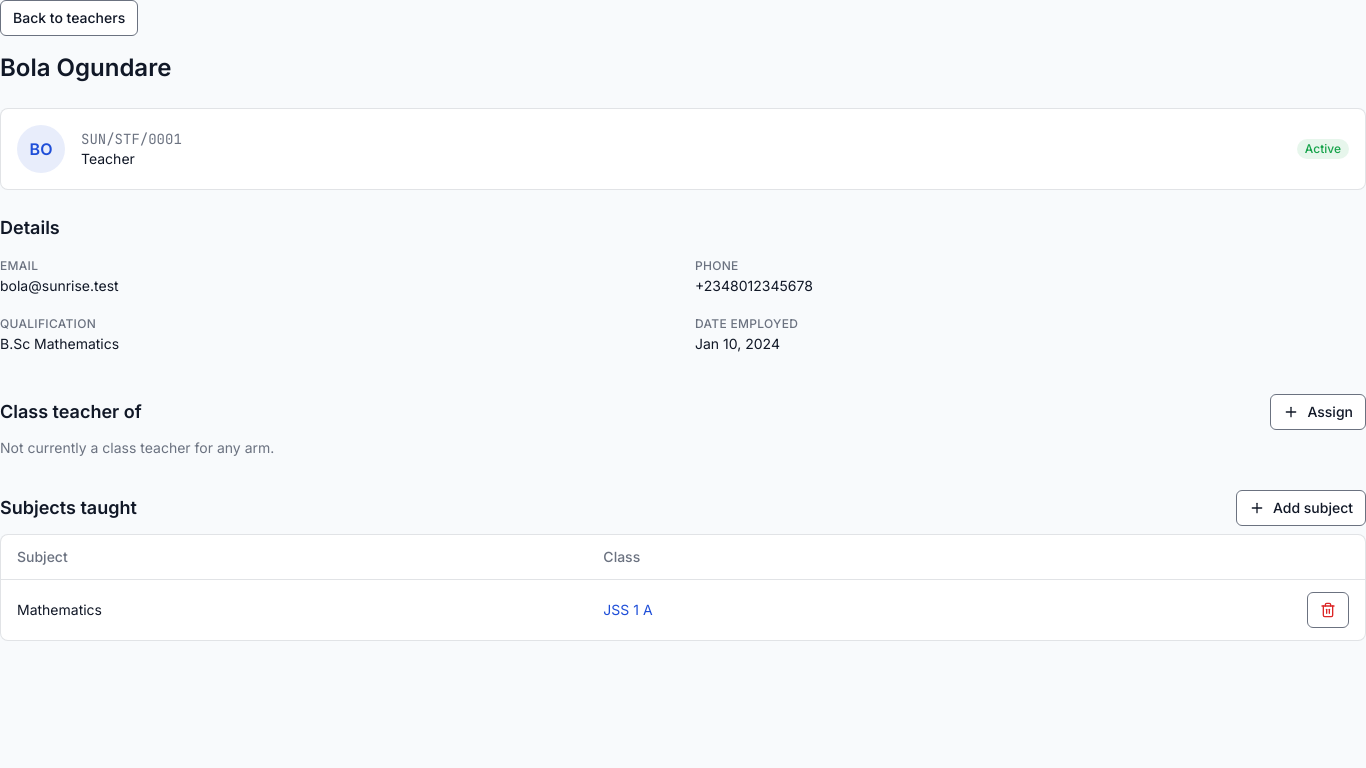
Test: TeacherDetailPage › assign-subject dialog surfaces the named 409 conflict inline, per arm
Expected: the heading "Bola Ogundare" is shown, [0,52,171,84]
Click the button "Add subject". click: x=1301, y=508
box: [1236,490,1365,526]
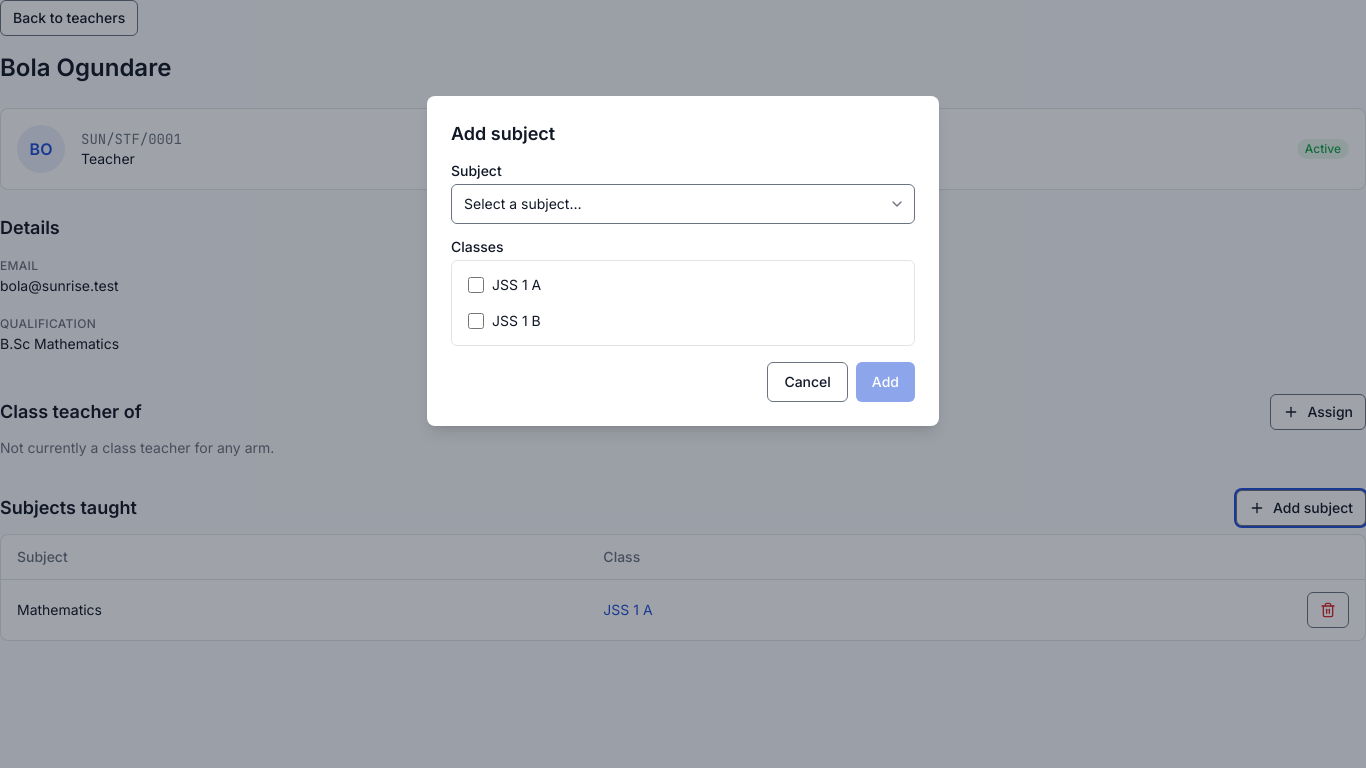
Select "Mathematics" in the dropdown labelled "Subject". click: x=683, y=204
box: [451,184,915,224]
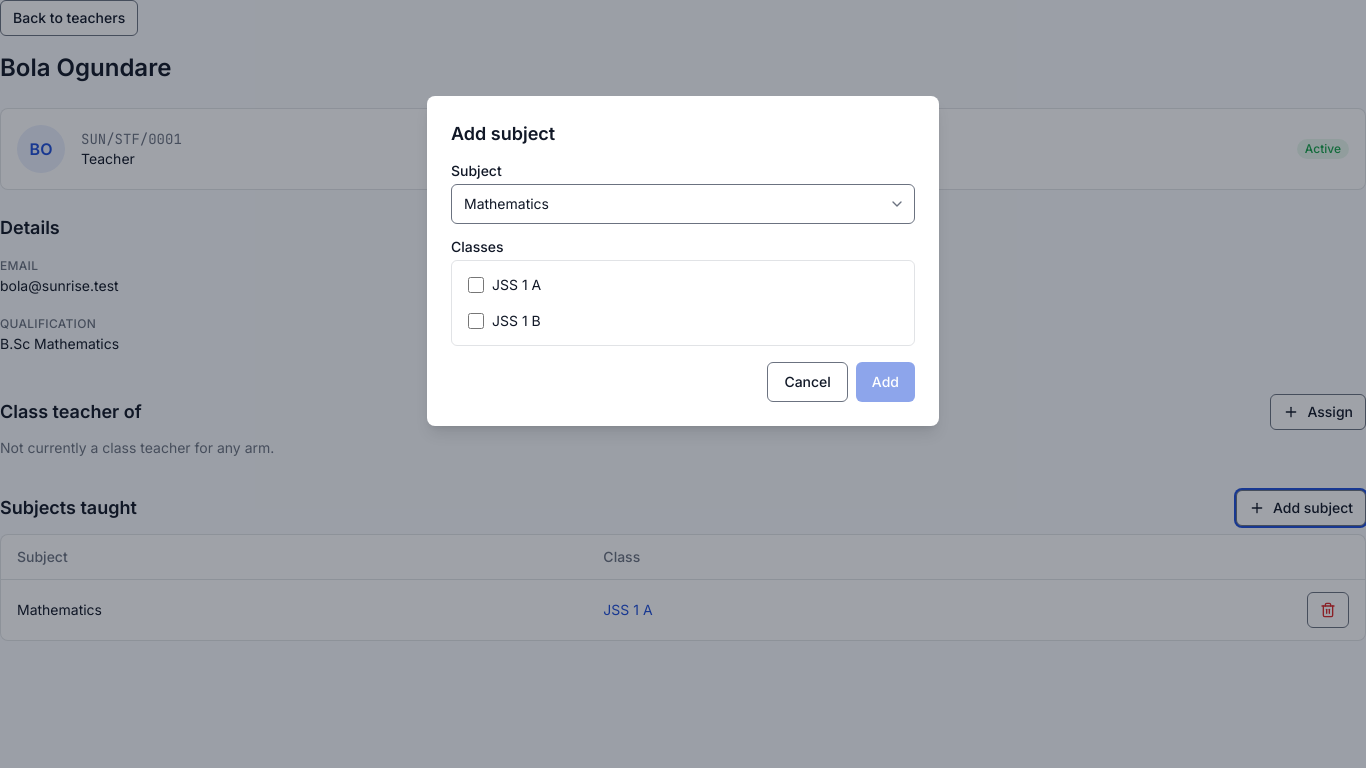
Click the checkbox labelled "JSS 1 A". click: x=476, y=285
box: [468,277,484,293]
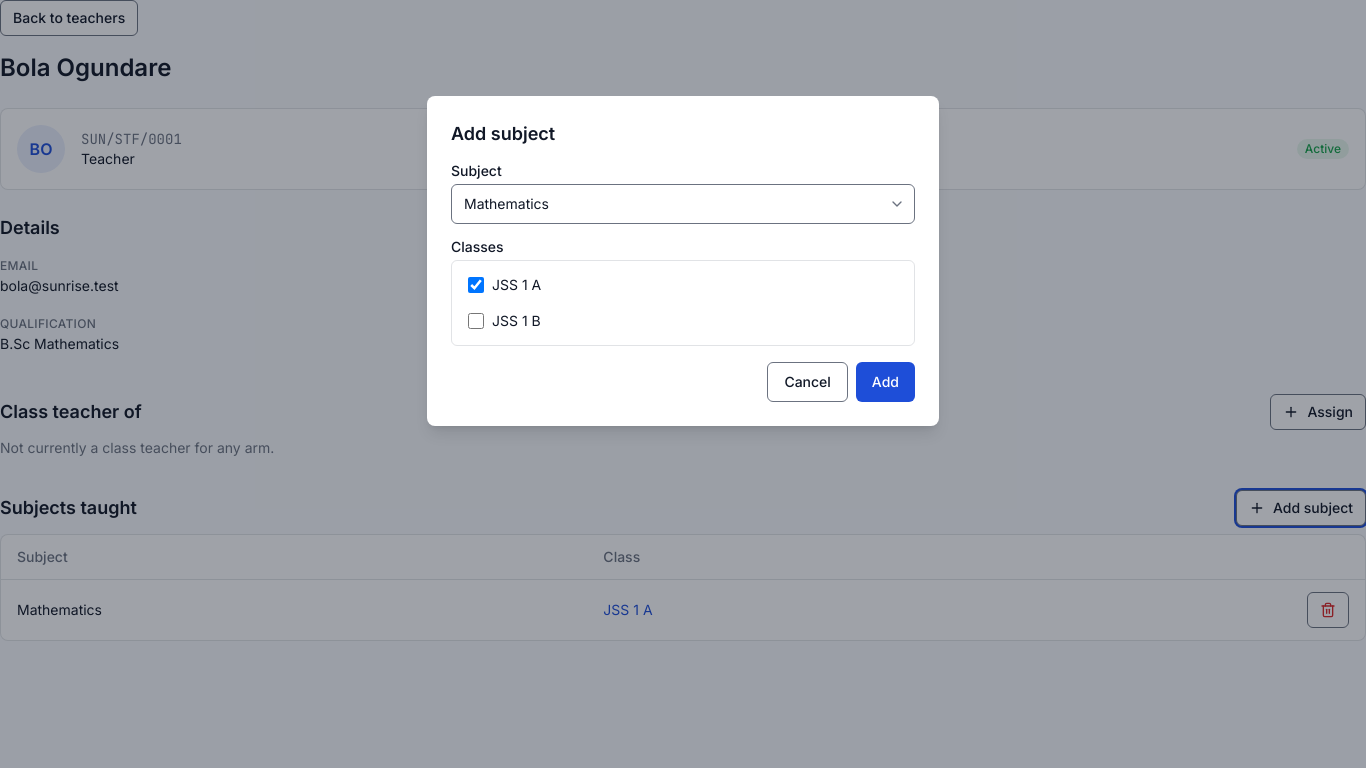
Click the checkbox labelled "JSS 1 B". click: x=476, y=321
box: [468,313,484,329]
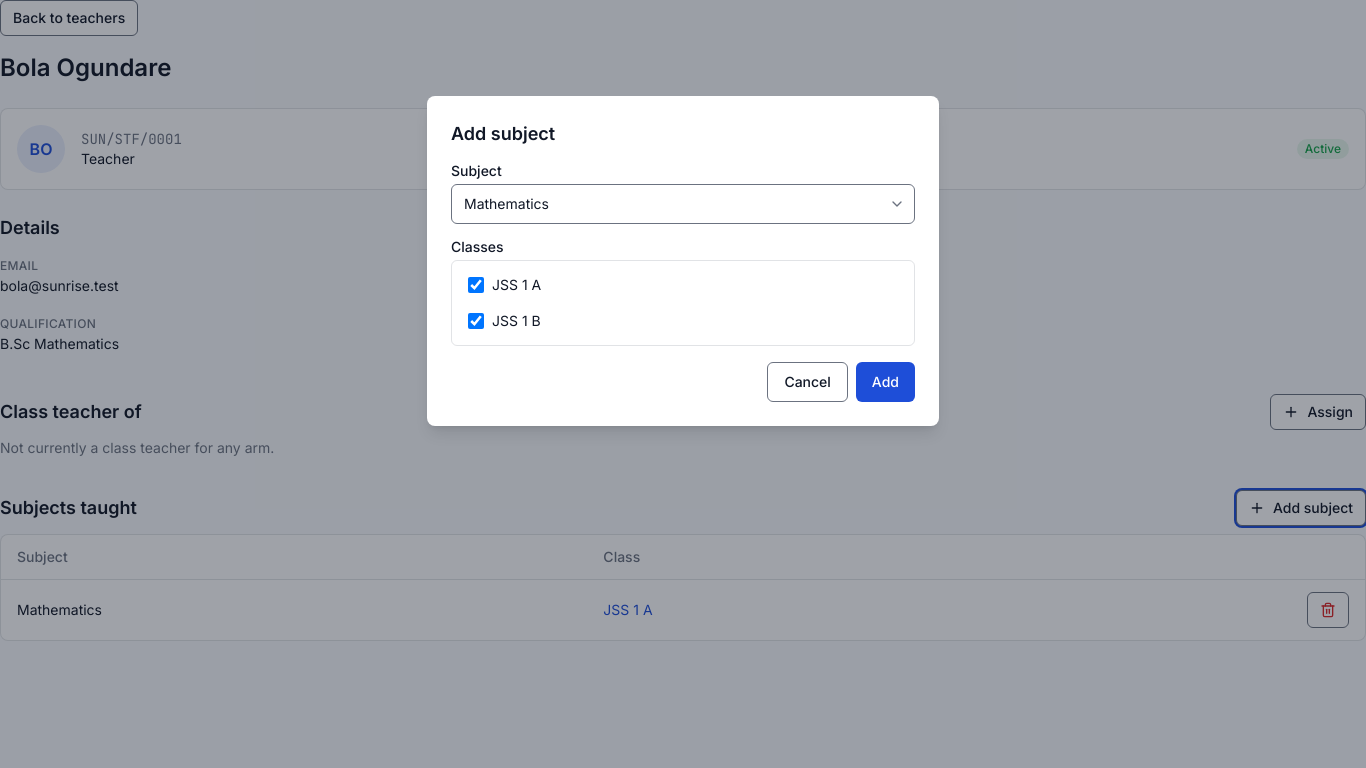
Click the button "Add". click: x=885, y=382
box: [856,362,915,402]
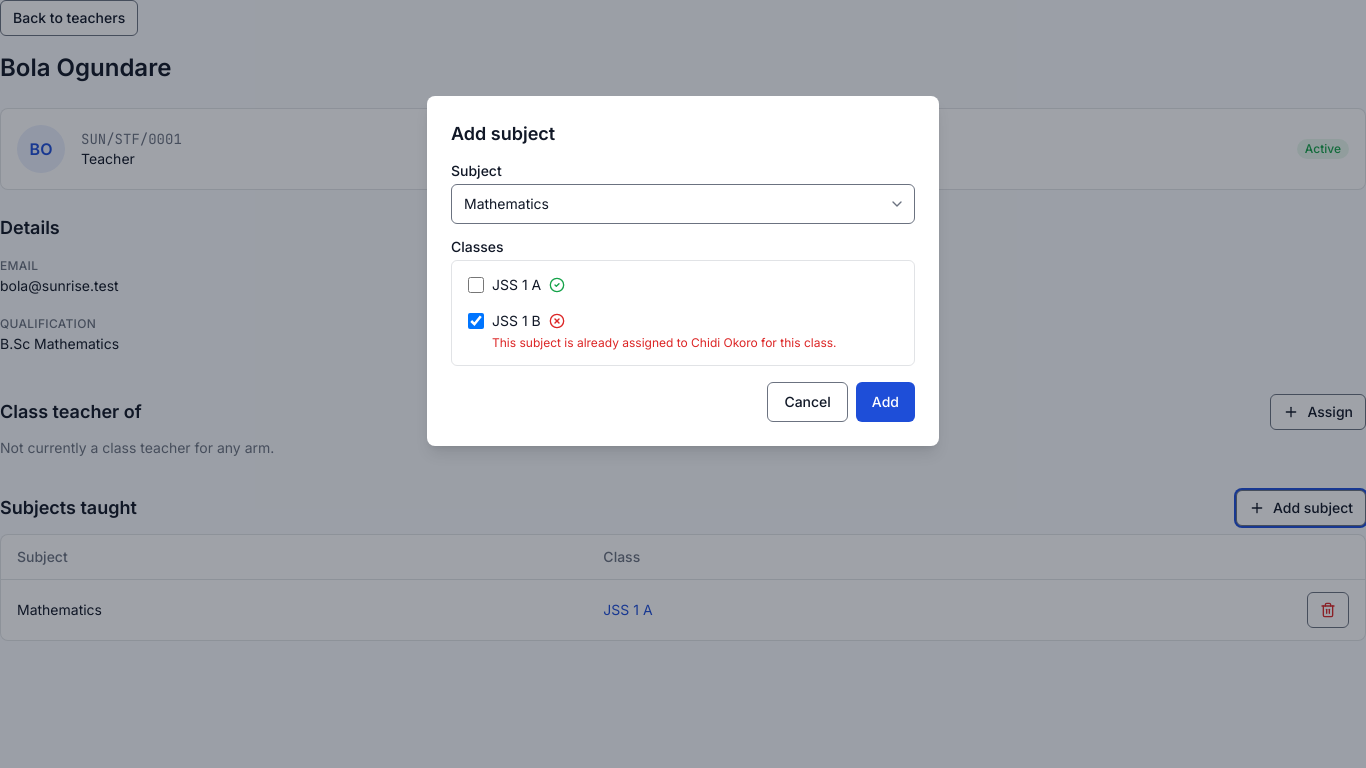
Expected: the button "Add" is shown, [856,382,915,422]
Expected: the text "This subject is already assigned to Chidi Okoro for this class." is shown, [492,335,836,350]
